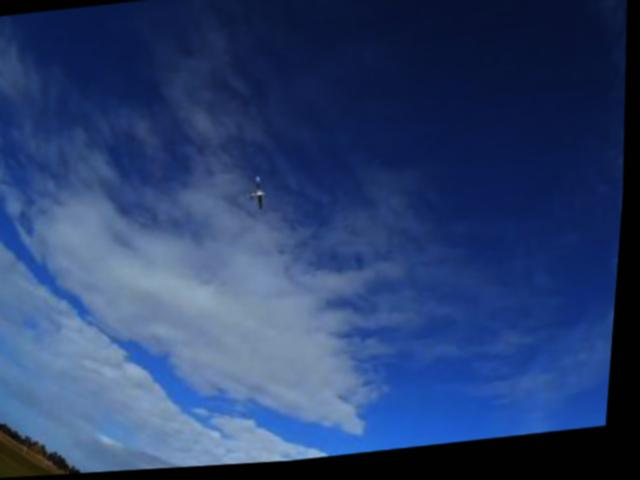uav: (243, 172, 277, 219)
